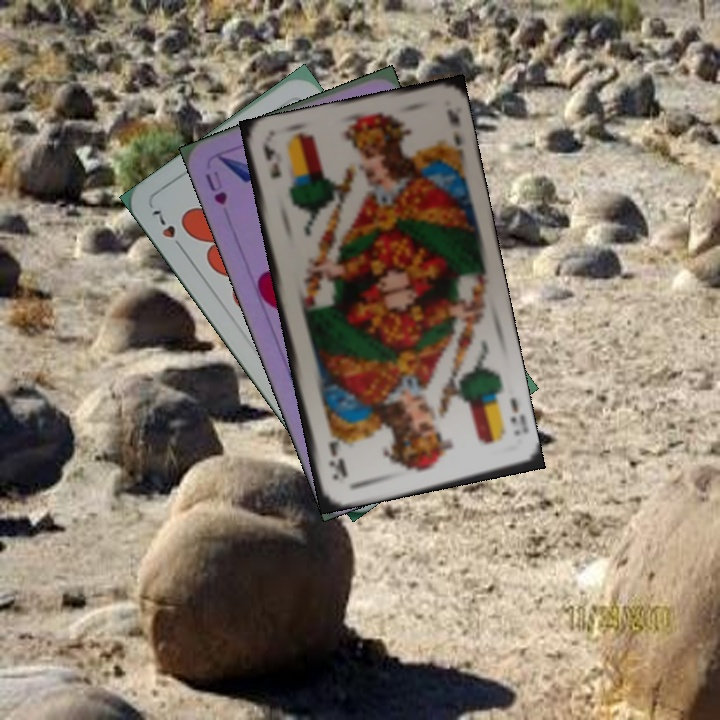EK: (258, 141, 283, 181), (505, 394, 524, 438)
H7: (147, 205, 188, 255)
HU: (201, 169, 230, 208)
